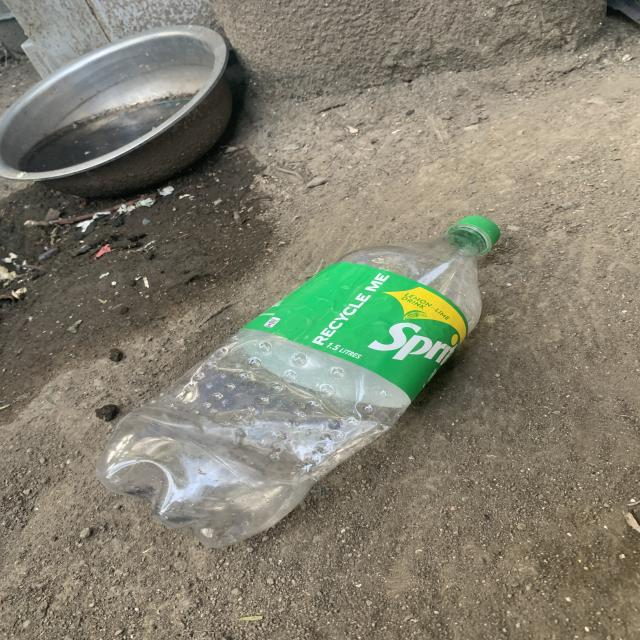Bottle: (97, 216, 500, 547)
